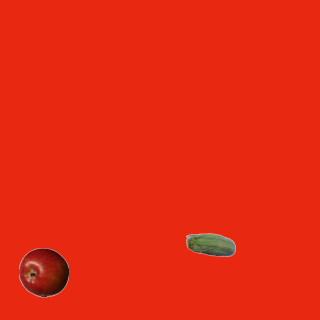Apple Braeburn: (18, 247, 68, 297)
Corn Husk: (185, 221, 235, 271)
